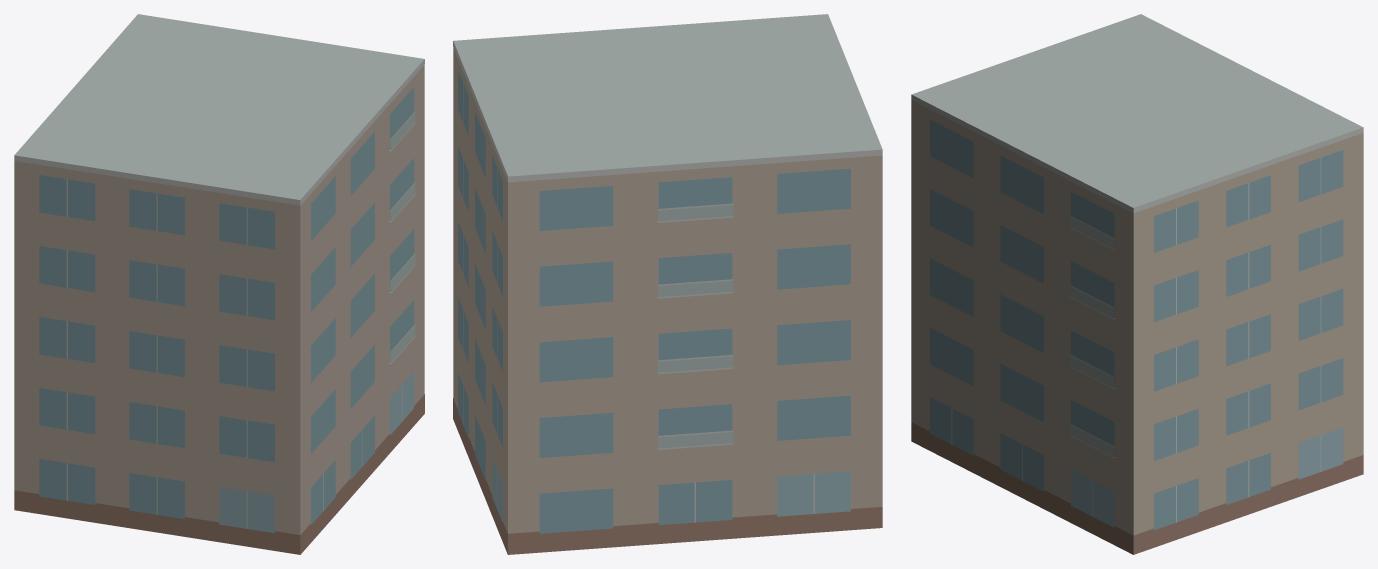
Rendered from survey-upis-32992734.glb.
The picture shows the model from 3 angles, left to right: view 1: azimuth 30°, elevation 25°; view 2: azimuth 150°, elevation 25°; view 3: azimuth 270°, elevation 25°; orthographic projection. The views are drawn at different scales.
Visible parts, largest first — view 1: survey-upis-32992734.tmp; view 2: survey-upis-32992734.tmp; view 3: survey-upis-32992734.tmp.
Part boxes in pixels (box(x1,y1,x2,y2)): survey-upis-32992734.tmp: box(14, 14, 424, 554); survey-upis-32992734.tmp: box(453, 14, 882, 554); survey-upis-32992734.tmp: box(911, 14, 1363, 554).
Size of the model in its own units: 18.84 by 15.7 by 18.56.
